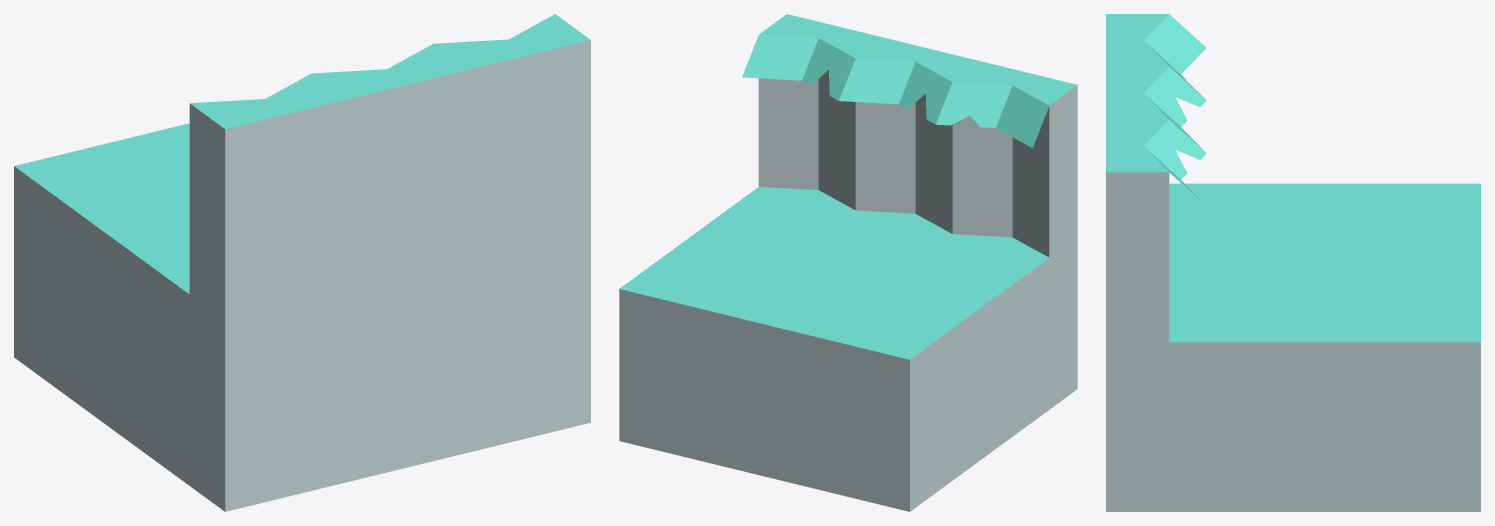
The model's file is cliff_half_top_stone.glb.
3 views of the same model, side by side, from view 1: azimuth 30°, elevation 25°; view 2: azimuth 150°, elevation 25°; view 3: azimuth 270°, elevation 25° (orthographic). The views are drawn at different scales.
Parts seen in each view (by area): view 1: cliff_half_top_stone; view 2: cliff_half_top_stone; view 3: cliff_half_top_stone.
Boxes of the visible parts, box(x1,y1,x2,y2) form: cliff_half_top_stone: box(14, 14, 590, 511); cliff_half_top_stone: box(619, 14, 1077, 511); cliff_half_top_stone: box(1106, 14, 1480, 511).
Bounding box in the file's own units: 1 × 1 × 1.
